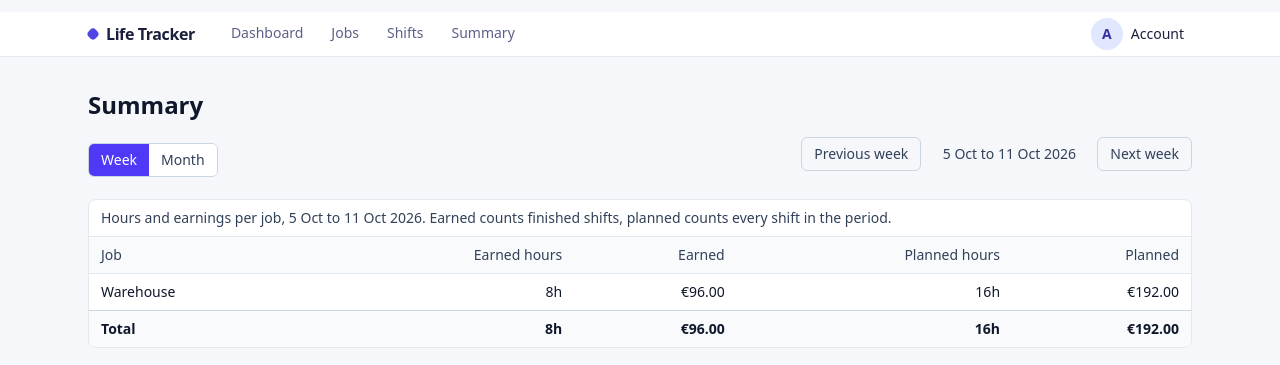
Test case: SummaryPage › switches to the month and steps by month
Check: the column heading "Warehouse" is shown, box [89,274,315,310]
Click the button "Month" at (183, 160), box [149,144,216,176]
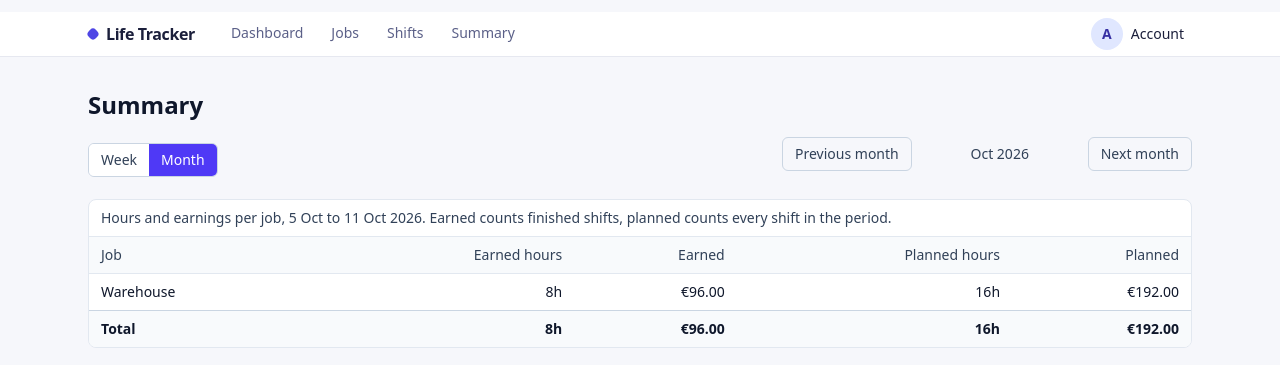
Check: the text "Oct 2026" is shown, box [970,144,1029,163]
Check: the button "Month" is pressed, box [149,144,216,176]
Click the button "Next month" at (1140, 154), box [1088,137,1192,171]
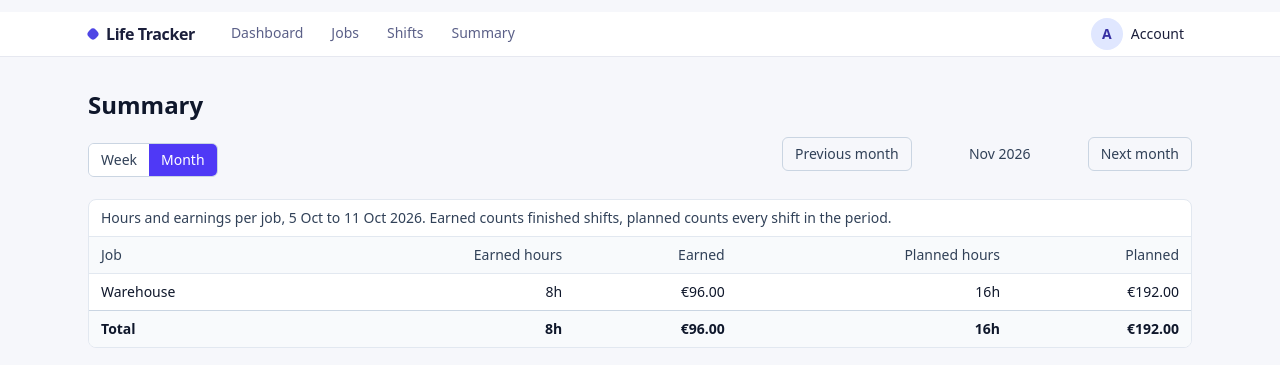
Check: the text "Nov 2026" is shown, box [969,144,1030,163]
